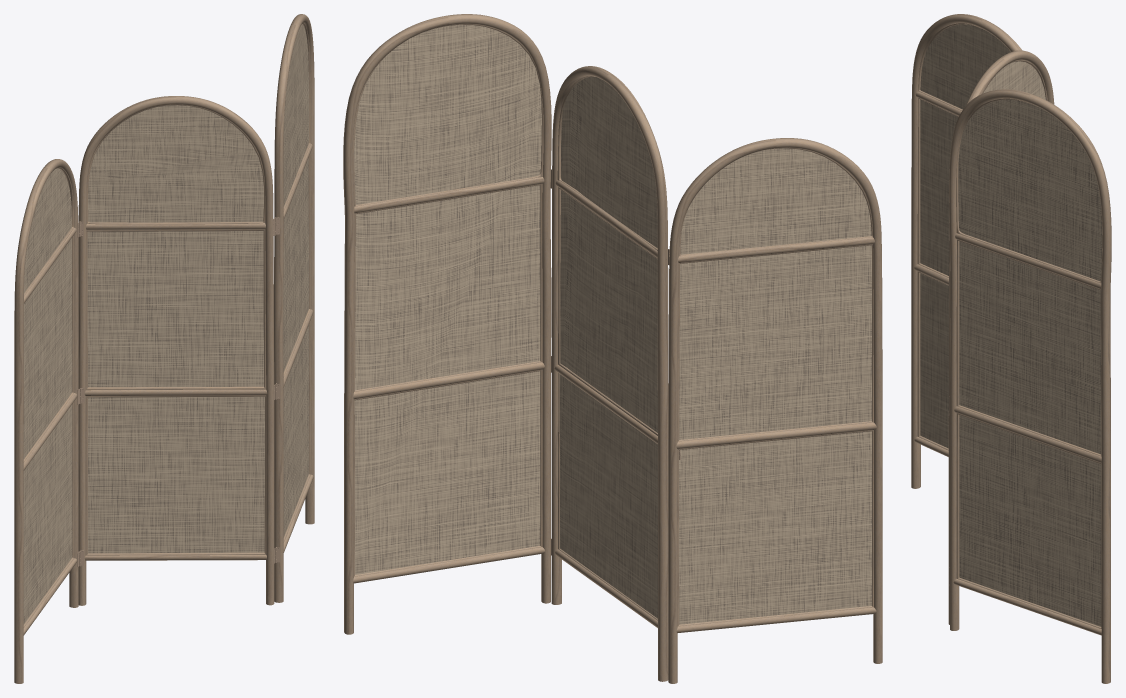
The model's file is canebentwood.gltf.
3 views of the same model, side by side, from view 1: azimuth 30°, elevation 25°; view 2: azimuth 150°, elevation 25°; view 3: azimuth 270°, elevation 25° (orthographic). The views are drawn at different scales.
Visible parts, largest first — view 1: canebentwood4; view 2: canebentwood4; view 3: canebentwood4.
Part boxes in pixels (x1,y1,x2,y2): canebentwood4: (14, 14, 314, 683); canebentwood4: (343, 14, 882, 683); canebentwood4: (911, 14, 1111, 683).
Size of the model in its own units: 1.37 by 1.8 by 0.584.
1 material, 1 textured.
